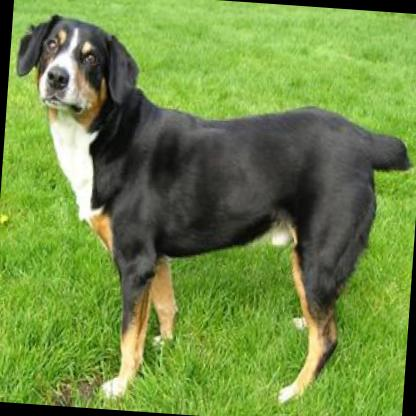EntleBucher: (0, 12, 416, 416)
